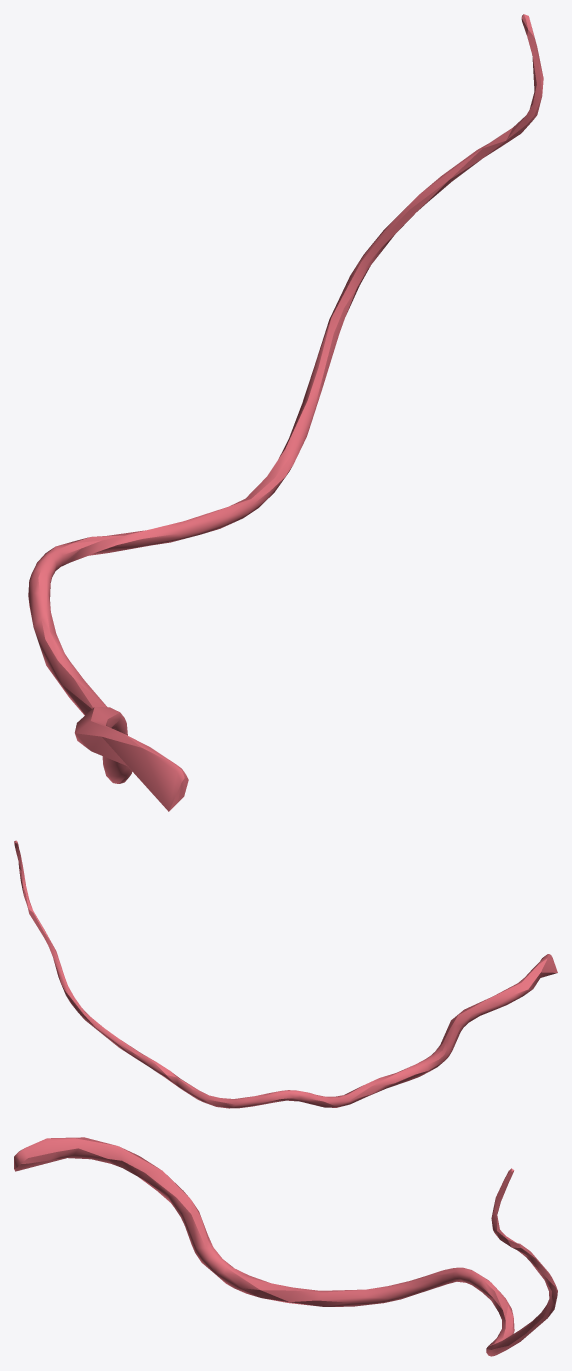
File: fma50520_fj1715m.glb
The picture shows the model from 3 angles, top to bottom: view 1: azimuth 30°, elevation 25°; view 2: azimuth 150°, elevation 25°; view 3: azimuth 270°, elevation 25°; orthographic projection. The views are drawn at different scales.
Parts seen in each view (by area): view 1: FMA50520_FJ1715M; view 2: FMA50520_FJ1715M; view 3: FMA50520_FJ1715M.
Part boxes in pixels (x1,y1,x2,y2): FMA50520_FJ1715M: (28, 14, 543, 811); FMA50520_FJ1715M: (14, 840, 557, 1108); FMA50520_FJ1715M: (14, 1137, 557, 1356).
Size of the model in its own units: 0.0405 by 0.0249 by 0.0377.
